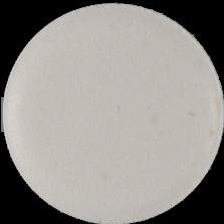0378-0186: (0, 0, 224, 224)
